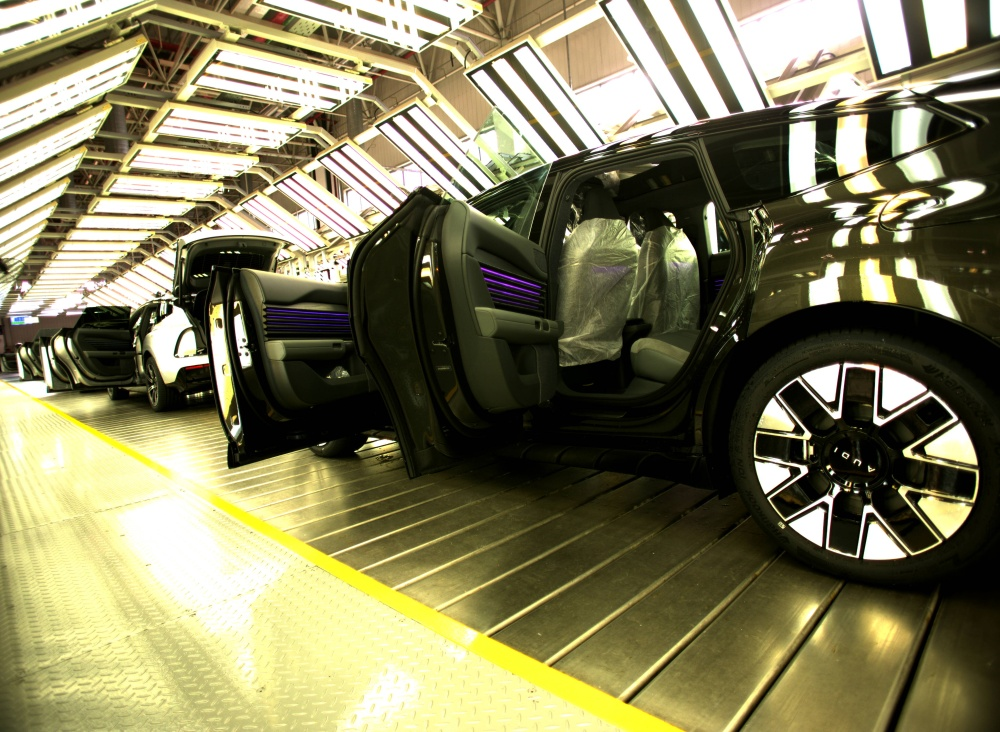armrest_color: (473, 305, 561, 343), (262, 336, 356, 359)
panel_color: (477, 261, 550, 317), (260, 305, 350, 338)
